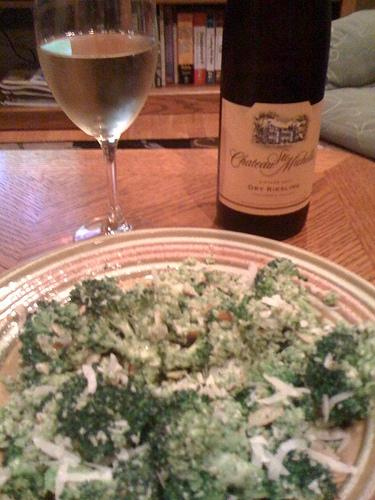broccoli: (17, 275, 162, 374), (288, 320, 375, 432), (149, 388, 249, 476), (59, 384, 162, 462), (224, 449, 336, 500), (3, 386, 64, 448), (256, 256, 308, 303), (244, 308, 300, 351), (1, 458, 46, 499), (56, 372, 88, 421), (260, 362, 304, 388), (60, 480, 116, 500), (192, 340, 213, 372), (218, 328, 246, 352), (158, 340, 180, 370), (148, 310, 168, 342)
onion: (255, 373, 311, 409), (268, 438, 308, 482), (308, 448, 360, 477), (32, 439, 80, 468), (304, 428, 350, 454), (74, 363, 97, 412), (54, 462, 68, 500)
